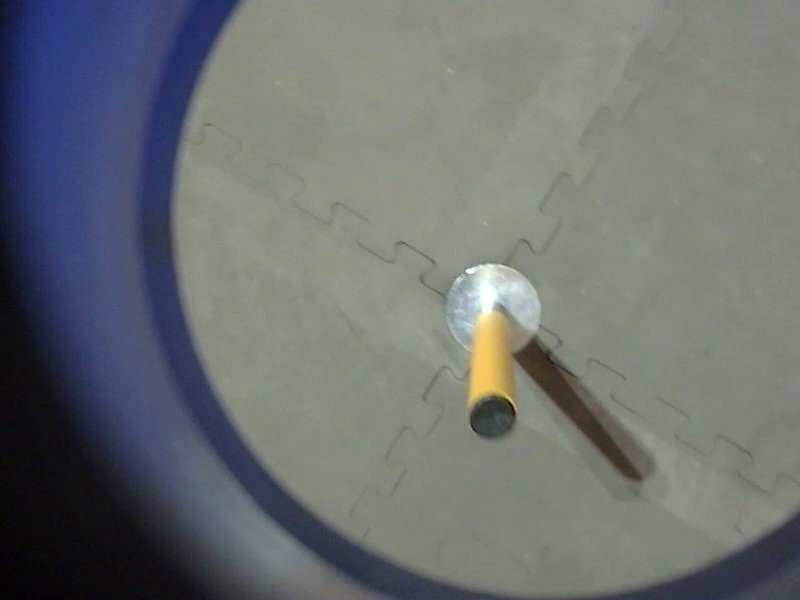tip: (462, 383, 521, 446)
